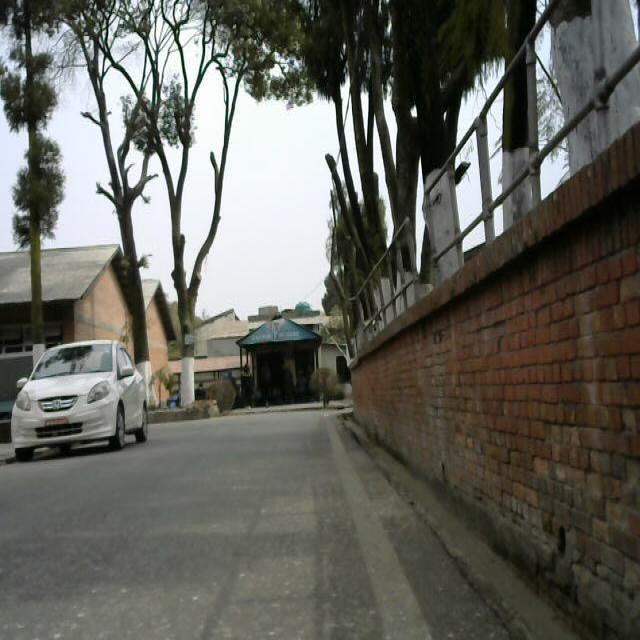Car: (0, 330, 153, 456)
Road: (11, 436, 577, 640)
trees: (241, 3, 640, 188), (107, 0, 278, 383), (0, 0, 85, 339)
